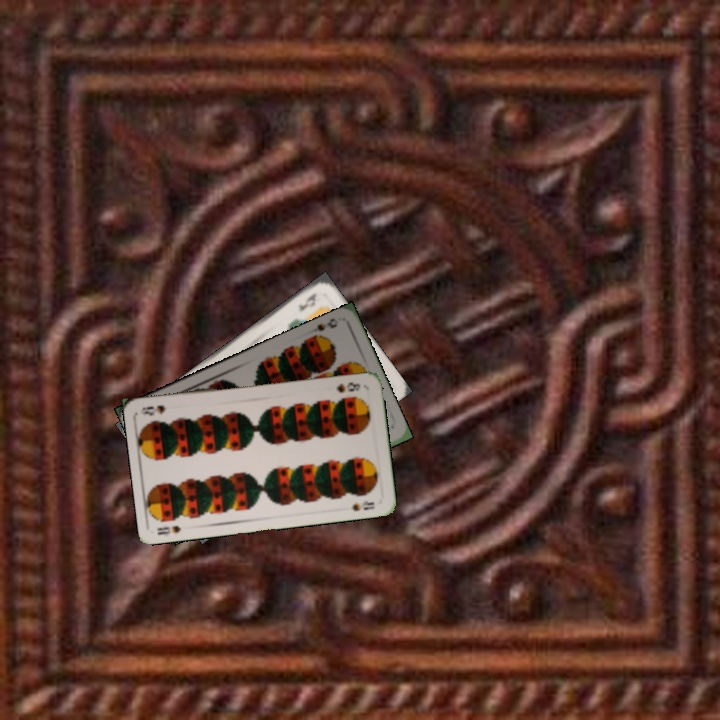EK: (294, 289, 319, 315)
S8: (332, 378, 363, 395), (153, 521, 183, 537)
S9: (306, 314, 340, 343)
